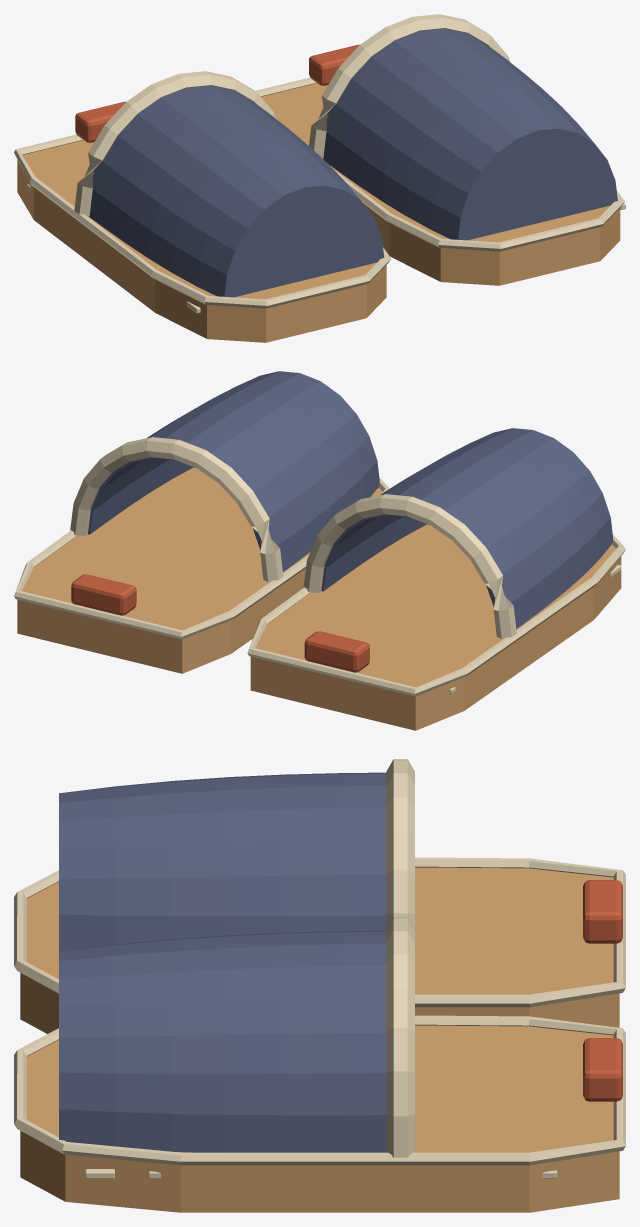
File: 028_felt_slippers_pair_v02.glb
3 views of the same model, one above another, from view 1: azimuth 30°, elevation 25°; view 2: azimuth 150°, elevation 25°; view 3: azimuth 270°, elevation 25° (orthographic). The views are drawn at different scales.
Parts seen in each view (by area): view 1: Faceted felt upper with open heel.001, Faceted felt upper with open heel, Contoured cork slipper sole, Contoured cork slipper sole.001, Bound sole stitching, Wool padded instep binding, Wool padded instep binding.001, Bound sole stitching.001, Heel leather tab, Heel leather tab.001; view 2: Contoured cork slipper sole, Contoured cork slipper sole.001, Faceted felt upper with open heel, Faceted felt upper with open heel.001, Wool padded instep binding.001, Wool padded instep binding, Bound sole stitching, Bound sole stitching.001, Heel leather tab.001, Heel leather tab; view 3: Faceted felt upper with open heel.001, Contoured cork slipper sole.001, Faceted felt upper with open heel, Contoured cork slipper sole, Bound sole stitching.001, Bound sole stitching, Wool padded instep binding.001, Wool padded instep binding, Heel leather tab, Heel leather tab.001.
Boxes of the visible parts, bbox=[...] form: Faceted felt upper with open heel.001: bbox=[323, 28, 617, 240]; Faceted felt upper with open heel: bbox=[88, 85, 384, 297]; Contoured cork slipper sole: bbox=[17, 140, 386, 342]; Contoured cork slipper sole.001: bbox=[261, 83, 620, 285]; Bound sole stitching: bbox=[14, 134, 391, 308]; Wool padded instep binding: bbox=[74, 71, 276, 216]; Wool padded instep binding.001: bbox=[309, 14, 510, 158]; Bound sole stitching.001: bbox=[255, 77, 624, 251]; Heel leather tab: bbox=[75, 101, 125, 142]; Heel leather tab.001: bbox=[309, 44, 359, 85]; Contoured cork slipper sole: bbox=[250, 524, 621, 730]; Contoured cork slipper sole.001: bbox=[17, 467, 382, 673]; Faceted felt upper with open heel: bbox=[321, 428, 613, 628]; Faceted felt upper with open heel.001: bbox=[88, 371, 379, 571]; Wool padded instep binding.001: bbox=[70, 437, 283, 582]; Wool padded instep binding: bbox=[303, 494, 516, 639]; Bound sole stitching: bbox=[247, 534, 625, 696]; Bound sole stitching.001: bbox=[14, 477, 389, 639]; Heel leather tab.001: bbox=[71, 574, 136, 615]; Heel leather tab: bbox=[304, 631, 369, 672]; Faceted felt upper with open heel.001: bbox=[59, 930, 386, 1152]; Contoured cork slipper sole.001: bbox=[20, 1025, 619, 1212]; Faceted felt upper with open heel: bbox=[59, 772, 386, 951]; Contoured cork slipper sole: bbox=[20, 867, 619, 1033]; Bound sole stitching.001: bbox=[14, 1015, 625, 1165]; Bound sole stitching: bbox=[14, 857, 625, 1007]; Wool padded instep binding.001: bbox=[386, 917, 414, 1157]; Wool padded instep binding: bbox=[386, 759, 414, 928]; Heel leather tab: bbox=[583, 880, 622, 943]; Heel leather tab.001: bbox=[583, 1038, 622, 1101].
Bounding box in the file's own units: 0.555 × 0.1825 × 0.4747.
